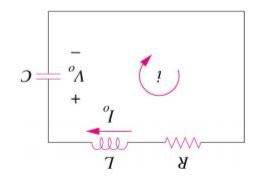inductor: (78, 131, 136, 155)
